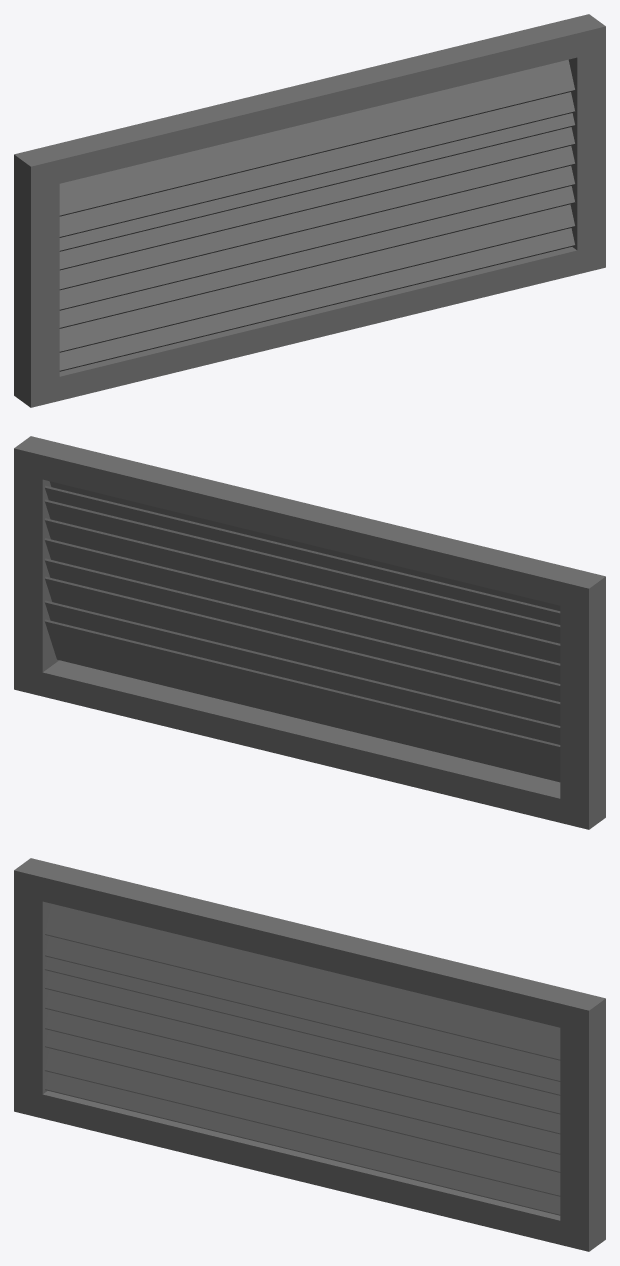
File: Vent.fbx
The picture shows the model from 3 angles, top to bottom: view 1: azimuth 30°, elevation 25°; view 2: azimuth 150°, elevation 25°; view 3: azimuth 330°, elevation 25°; orthographic projection.
Visible parts, largest first — view 1: Vent; view 2: Vent; view 3: Vent.
Part boxes in pixels (x1,y1,x2,y2): Vent: [14, 14, 605, 407]; Vent: [14, 436, 605, 829]; Vent: [14, 858, 605, 1251].
Size of the model in its own units: 0.4352 by 0.1744 by 0.0221.
Materials: 1 (1 with a texture image).
